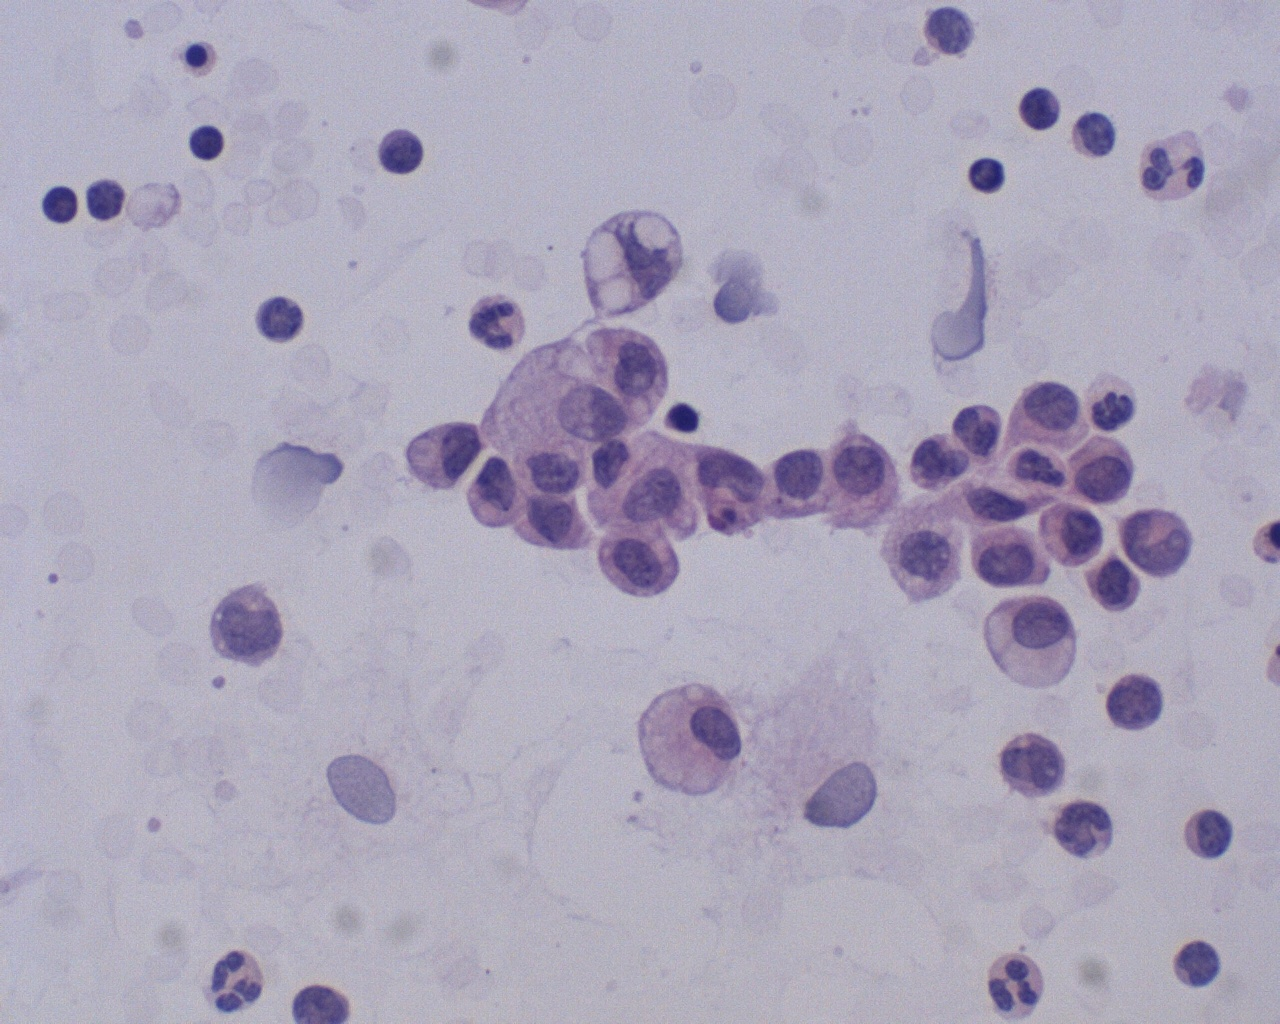ab: (590, 516, 683, 609), (828, 422, 904, 532), (696, 436, 777, 537), (761, 432, 839, 525), (965, 521, 1058, 595), (400, 421, 493, 486), (460, 451, 526, 534), (1064, 434, 1138, 506), (1098, 666, 1169, 738)
histo: (635, 677, 754, 805), (980, 595, 1080, 697)
lymph: (180, 120, 226, 169)
neutro: (979, 947, 1058, 1018), (200, 938, 271, 1016), (463, 290, 529, 355)
